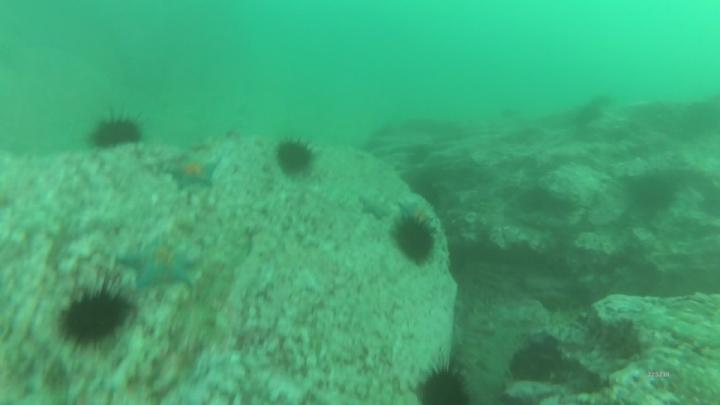echinus: (65, 297, 128, 345), (393, 217, 438, 263), (509, 341, 558, 382), (424, 373, 465, 405), (93, 119, 143, 145), (278, 139, 310, 174), (97, 292, 99, 295)
starfish: (120, 235, 199, 285), (170, 156, 214, 186)
